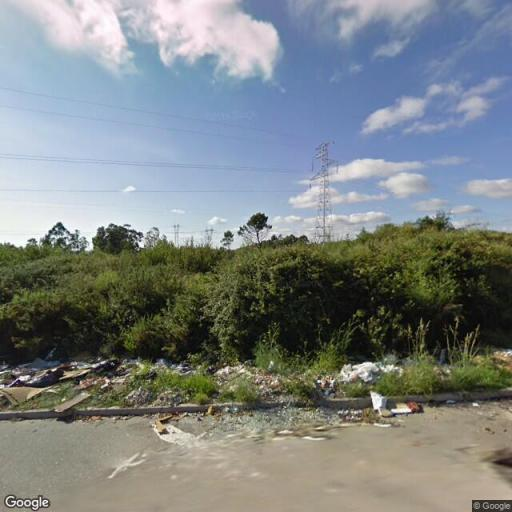ss_4: (307, 138, 339, 244)
wt_5: (172, 223, 182, 243), (204, 226, 214, 246)
